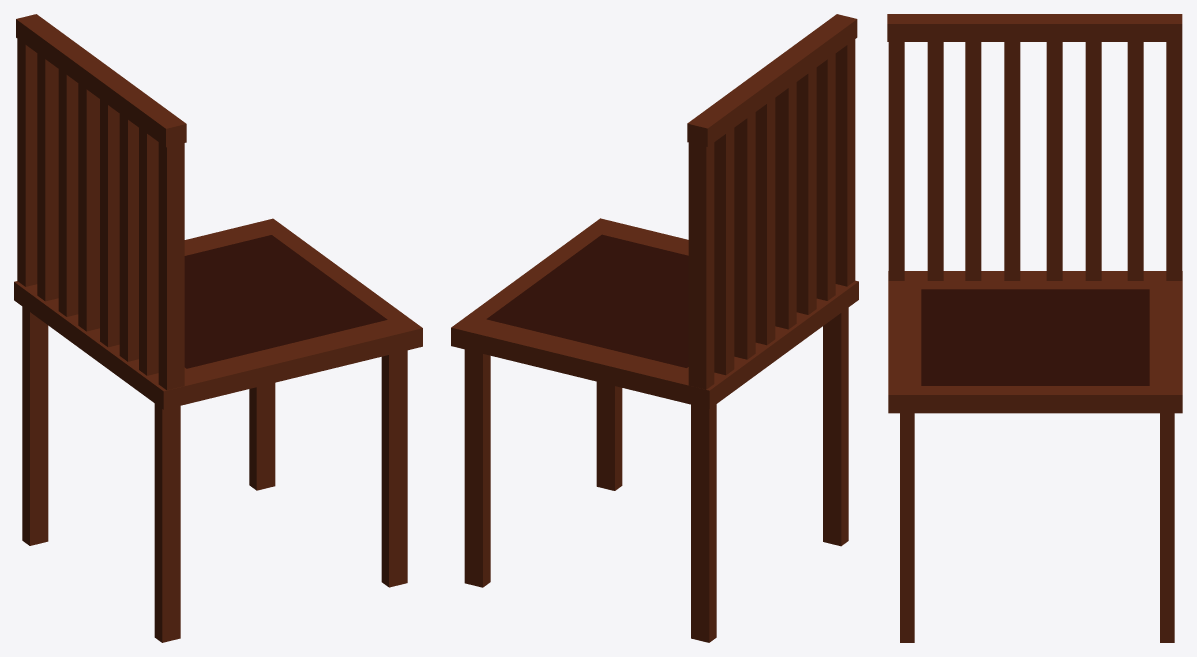
The model's file is Chair_model.obj.
The picture shows the model from 3 angles, left to right: view 1: azimuth 30°, elevation 25°; view 2: azimuth 150°, elevation 25°; view 3: azimuth 270°, elevation 25°; orthographic projection.
Visible parts, largest first — view 1: Plane, Cube.005, Cube.004, Cube.003, Cube.013, Cube, Cube.002, Cube.012, Cube.009, Cube.010, Cube.011, Cube.008 (+3 smaller); view 2: Plane, Cube.005, Cube.011, Cube.001, Cube.013, Cube.002, Cube.003, Cube.010, Cube.007, Cube.004, Cube.009, Cube.012 (+3 smaller); view 3: Plane, Cube.005, Cube.013, Cube.004, Cube.006, Cube.008, Cube.007, Cube.010, Cube.009, Cube.012, Cube.011, Cube (+1 smaller).
Boxes of the visible parts, left/top/right/bottom form: Plane: left=184, top=235, right=387, bottom=368; Cube.005: left=14, top=218, right=422, bottom=409; Cube.004: left=158, top=142, right=184, bottom=390; Cube.003: left=154, top=403, right=180, bottom=642; Cube.013: left=16, top=14, right=186, bottom=147; Cube: left=381, top=350, right=407, bottom=587; Cube.002: left=22, top=306, right=48, bottom=545; Cube.012: left=37, top=53, right=58, bottom=301; Cube.009: left=78, top=83, right=99, bottom=331; Cube.010: left=58, top=69, right=78, bottom=316; Cube.011: left=17, top=39, right=37, bottom=286; Cube.008: left=119, top=114, right=138, bottom=361; Plane: left=486, top=234, right=688, bottom=367; Cube.005: left=451, top=218, right=858, bottom=408; Cube.011: left=688, top=142, right=714, bottom=389; Cube.001: left=464, top=349, right=490, bottom=587; Cube.013: left=687, top=14, right=857, bottom=146; Cube.002: left=691, top=404, right=716, bottom=642; Cube.003: left=823, top=307, right=848, bottom=546; Cube.010: left=734, top=112, right=755, bottom=359; Cube.007: left=775, top=82, right=796, bottom=329; Cube.004: left=835, top=39, right=855, bottom=286; Cube.009: left=755, top=98, right=775, bottom=345; Cube.012: left=714, top=128, right=734, bottom=375; Plane: left=921, top=289, right=1149, bottom=385; Cube.005: left=888, top=271, right=1182, bottom=413; Cube.013: left=887, top=14, right=1182, bottom=41; Cube.004: left=888, top=42, right=904, bottom=280; Cube.006: left=927, top=42, right=943, bottom=280; Cube.008: left=965, top=42, right=981, bottom=280; Cube.007: left=1004, top=42, right=1020, bottom=280; Cube.010: left=1085, top=42, right=1101, bottom=280; Cube.009: left=1046, top=42, right=1062, bottom=280; Cube.012: left=1127, top=42, right=1143, bottom=280; Cube.011: left=1166, top=42, right=1182, bottom=280; Cube: left=900, top=413, right=914, bottom=642.
Bounding box in the file's own units: 0.2282 × 0.4366 × 0.2289.
